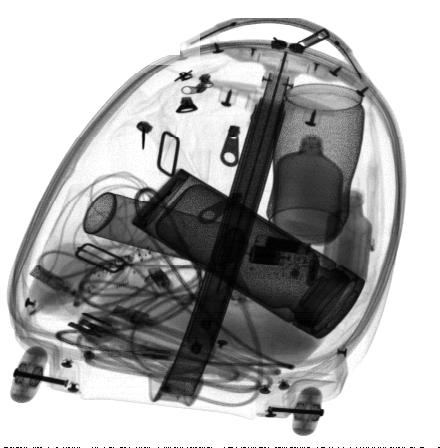Sprayer: (82, 192, 264, 272)
